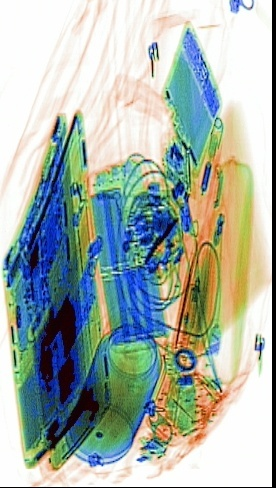powerbank: (83, 157, 171, 356)
